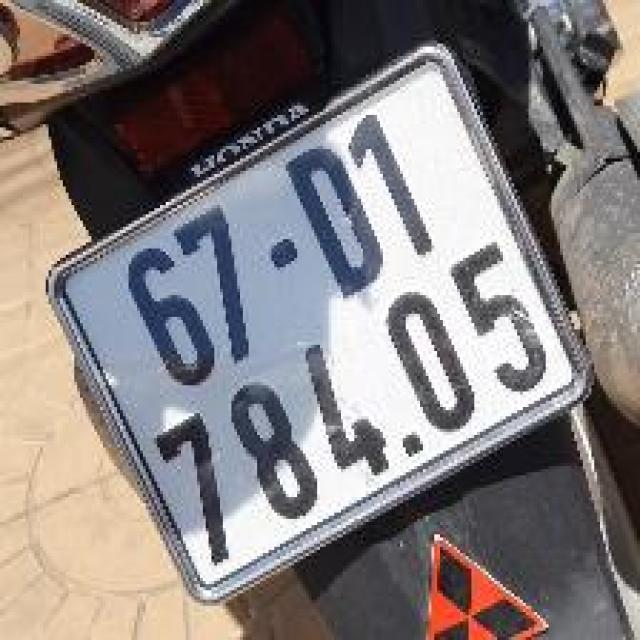0: (365, 270, 494, 455)
1: (333, 102, 452, 278)
4: (281, 327, 400, 499)
5: (436, 228, 567, 411)
6: (113, 228, 229, 409)
7: (145, 402, 252, 577), (169, 194, 264, 375)
8: (212, 369, 336, 543)
D: (278, 137, 402, 318)
